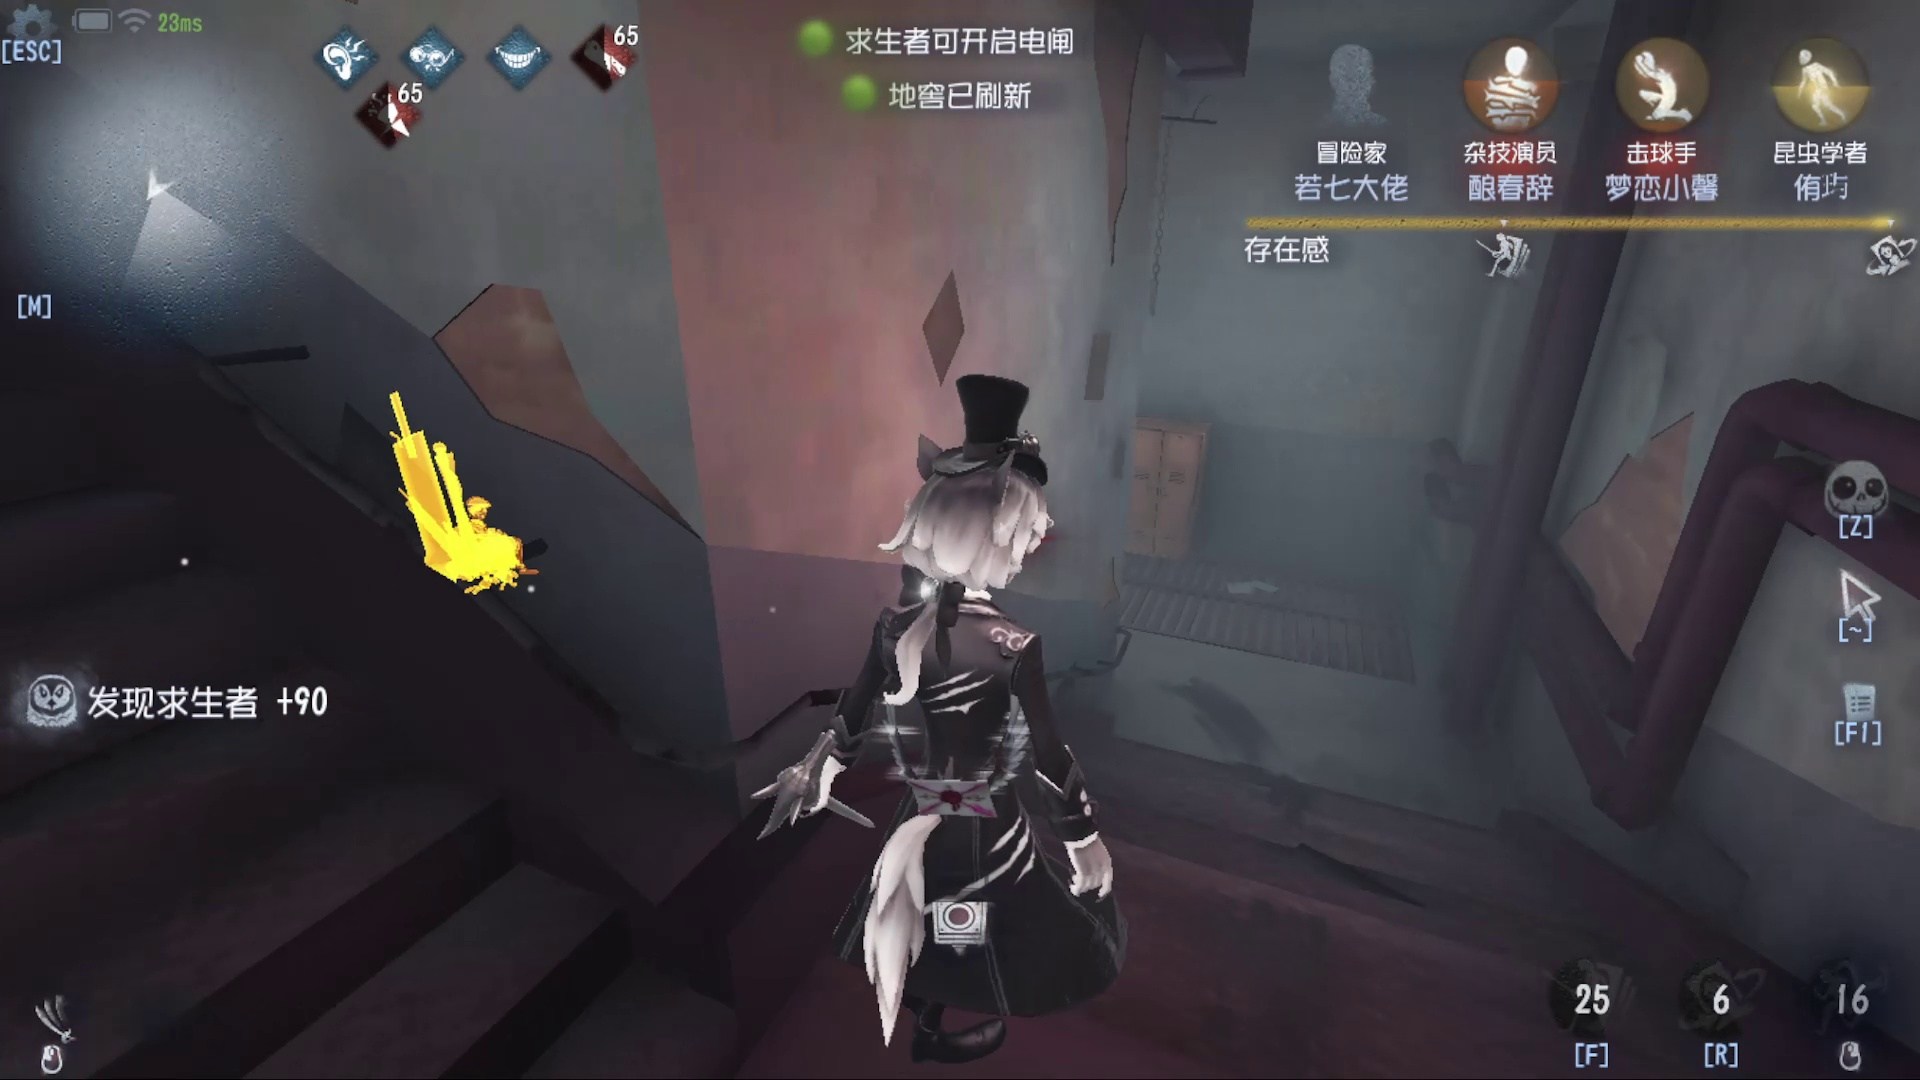狂欢之椅: (355, 382, 542, 607)
